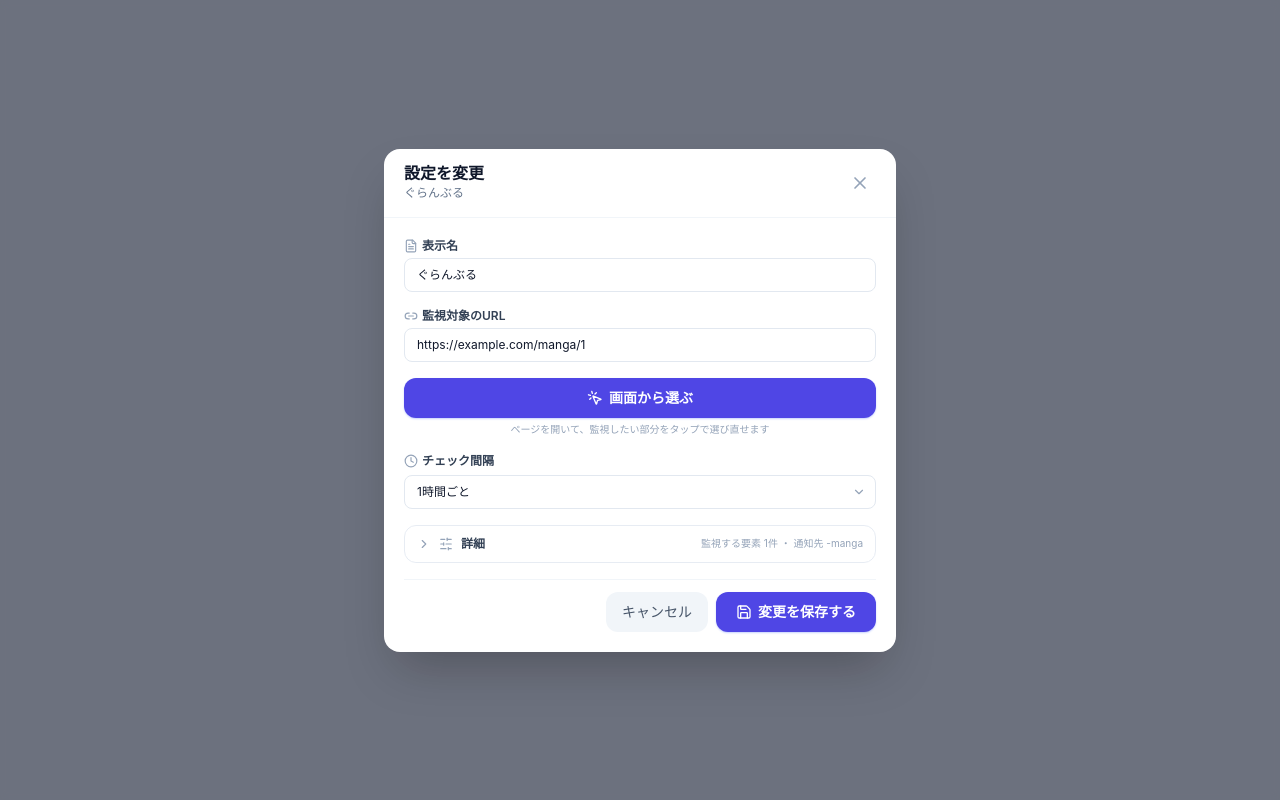
Test: EditWatchModal › warns that the history is kept when the URL is changed
expect the text "これまでの履歴は残る" is not shown: met
Replace the text in the field showing "https://example.com/manga/1" below "監視対象のURL" with "https://example.com/manga/2" at [640, 344], box [404,328,876,362]
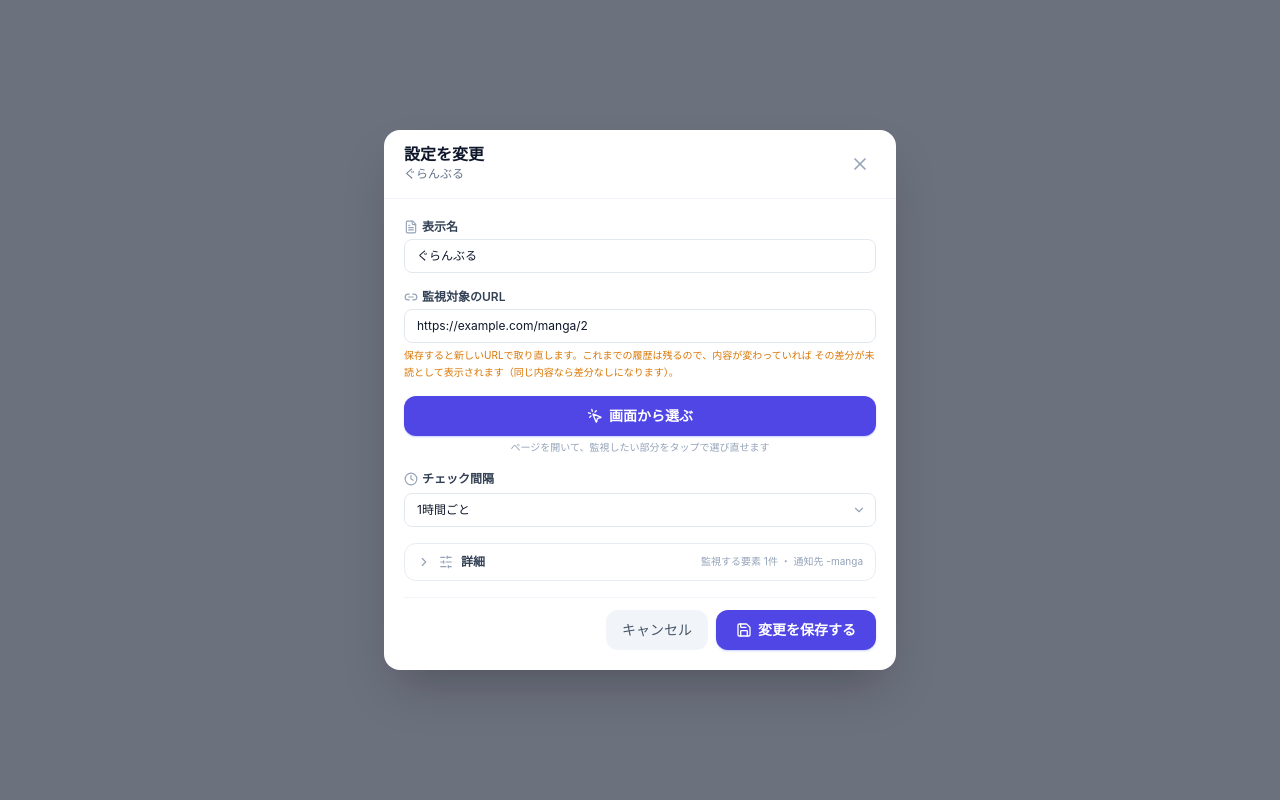
expect the text "これまでの履歴は残る" is shown: met, box [404,349,874,378]
